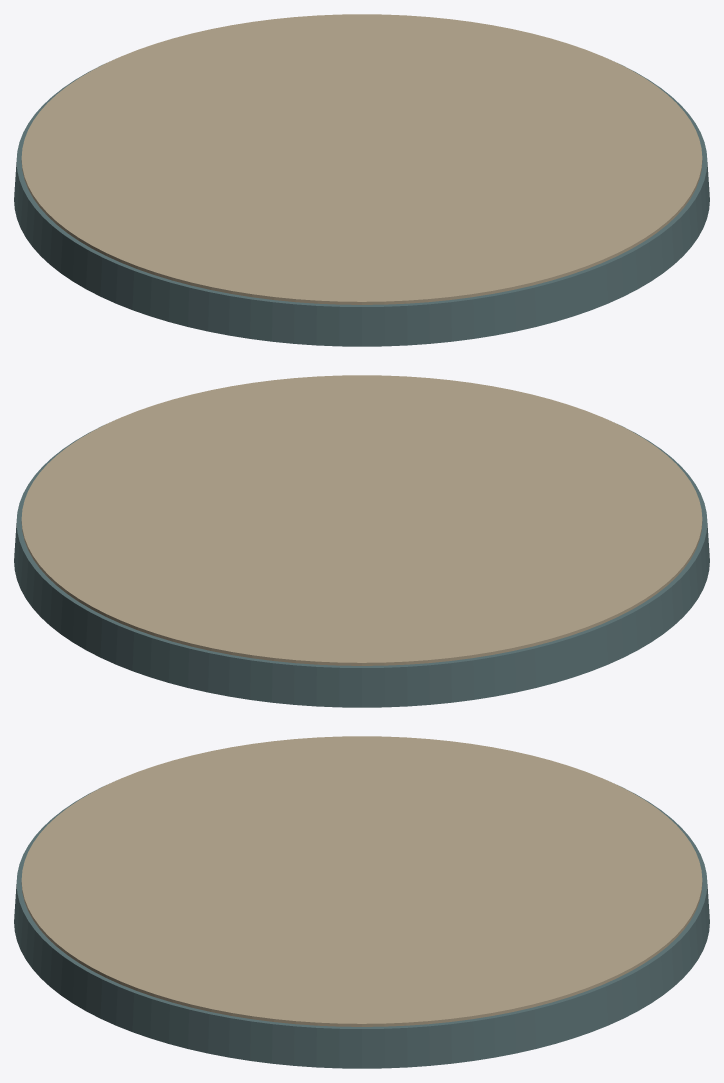
File: SM_R02A_Arena_Floors.fbx
3 views of the same model, one above another, from view 1: azimuth 30°, elevation 25°; view 2: azimuth 150°, elevation 25°; view 3: azimuth 270°, elevation 25° (orthographic).
Parts seen in each view (by area): view 1: SM_R02A_Arena_Floors; view 2: SM_R02A_Arena_Floors; view 3: SM_R02A_Arena_Floors.
Part boxes in pixels (x1,y1,x2,y2): SM_R02A_Arena_Floors: (14, 14, 709, 346); SM_R02A_Arena_Floors: (14, 375, 709, 707); SM_R02A_Arena_Floors: (14, 736, 709, 1068).
Size of the model in its own units: 4090 by 4090 by 270.
